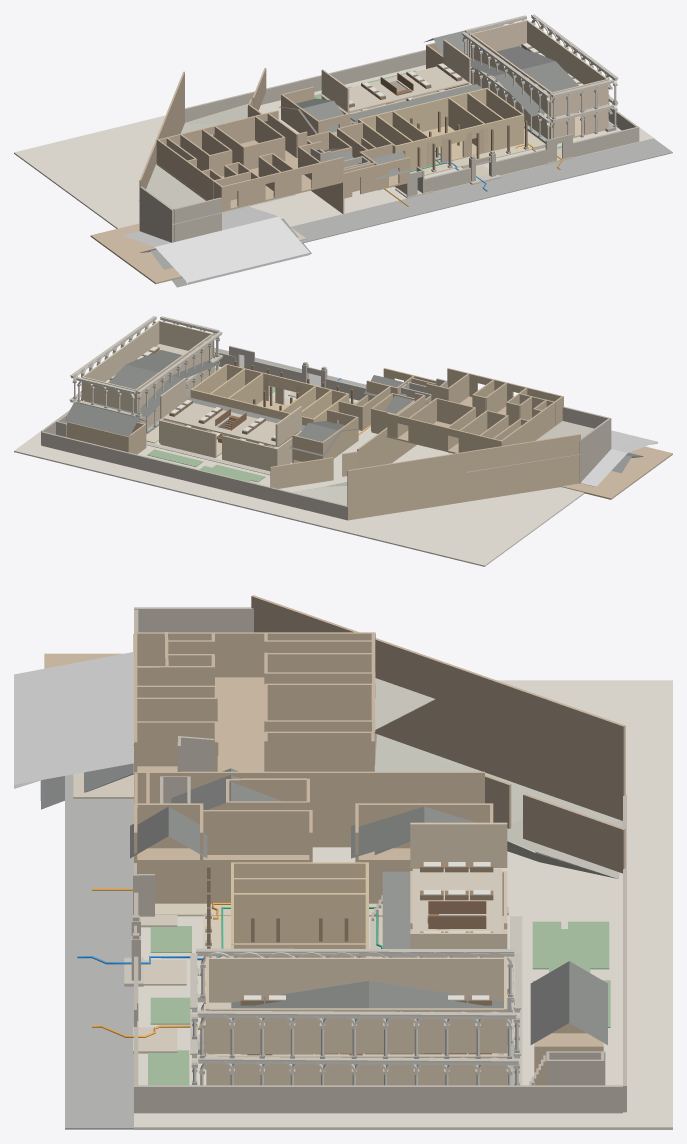
Rendered from tung-wah-1903.glb.
3 views of the same model, one above another, from view 1: azimuth 30°, elevation 25°; view 2: azimuth 150°, elevation 25°; view 3: azimuth 270°, elevation 25° (orthographic). The views are drawn at different scales.
Visible parts, largest first — view 1: site ground, front street, 立方體.001, 北院牆, 右側養病房 推定瓦頂, 西側附屬房 floor.001, 後側養病房甲 二樓樓板.001, 大堂 back, 右側養病房 right.001, 南院牆西.001, 西側附屬房 left.004, 西側附屬房 left.011 (+44 smaller); view 2: site ground, 西側附屬房 left.011, 北院牆, 右側養病房 推定瓦頂, 西側附屬房 floor.001, 後側養病房甲 二樓樓板.001, 西側附屬房 left.009, 右側養病房 right.001, 後勤附屬房 推定瓦頂, 西側附屬房 right, 後側養病房乙 back, 立方體.001 (+43 smaller); view 3: site ground, 西側附屬房 left.011, front street, 東院牆, 立方體.001, 右側養病房 right.001, 右側養病房 right.002, 西側附屬房 right, 大堂 left, 右側養病房 right, 西側餘地.001, 後勤附屬房 推定瓦頂 (+58 smaller).
Part boxes in pixels (x1,y1,x2,y2): site ground: (14, 65, 654, 228); front street: (291, 138, 672, 243); 立方體.001: (123, 206, 309, 284); 北院牆: (185, 49, 425, 122); 右側養病房 推定瓦頂: (470, 46, 577, 116); 西側附屬房 floor.001: (90, 223, 182, 284); 後側養病房甲 二樓樓板.001: (349, 66, 467, 112); 大堂 back: (359, 88, 486, 131); 右側養病房 right.001: (527, 20, 607, 84); 南院牆西.001: (173, 197, 221, 241); 西側附屬房 left.004: (156, 139, 221, 200); 西側附屬房 left.011: (139, 71, 184, 231); site ground: (14, 366, 584, 566); 西側附屬房 left.011: (347, 434, 580, 520); 北院牆: (41, 431, 348, 520); 右側養病房 推定瓦頂: (89, 350, 220, 416); 西側附屬房 floor.001: (561, 446, 672, 499); 後側養病房甲 二樓樓板.001: (163, 403, 276, 446); 西側附屬房 left.009: (270, 457, 333, 488); 右側養病房 right.001: (82, 321, 159, 381); 後勤附屬房 推定瓦頂: (64, 402, 147, 436); 西側附屬房 right: (357, 384, 447, 468); 後側養病房乙 back: (160, 420, 216, 456); 立方體.001: (580, 430, 657, 486); site ground: (134, 680, 672, 1129); 西側附屬房 left.011: (251, 595, 625, 820); front street: (65, 774, 133, 1129); 東院牆: (134, 1085, 622, 1113); 立方體.001: (14, 652, 133, 788); 右側養病房 right.001: (209, 1008, 506, 1053); 右側養病房 right.002: (209, 957, 503, 1002); 西側附屬房 right: (134, 771, 484, 847); 大堂 left: (231, 893, 368, 943); 右側養病房 right: (208, 1055, 507, 1085); 西側餘地.001: (375, 733, 622, 878); 後勤附屬房 推定瓦頂: (530, 961, 607, 1044).
Size of the model in its own units: 80.91 by 9.84 by 47.69.
